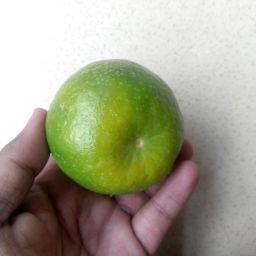Unripe: (46, 61, 183, 191)
